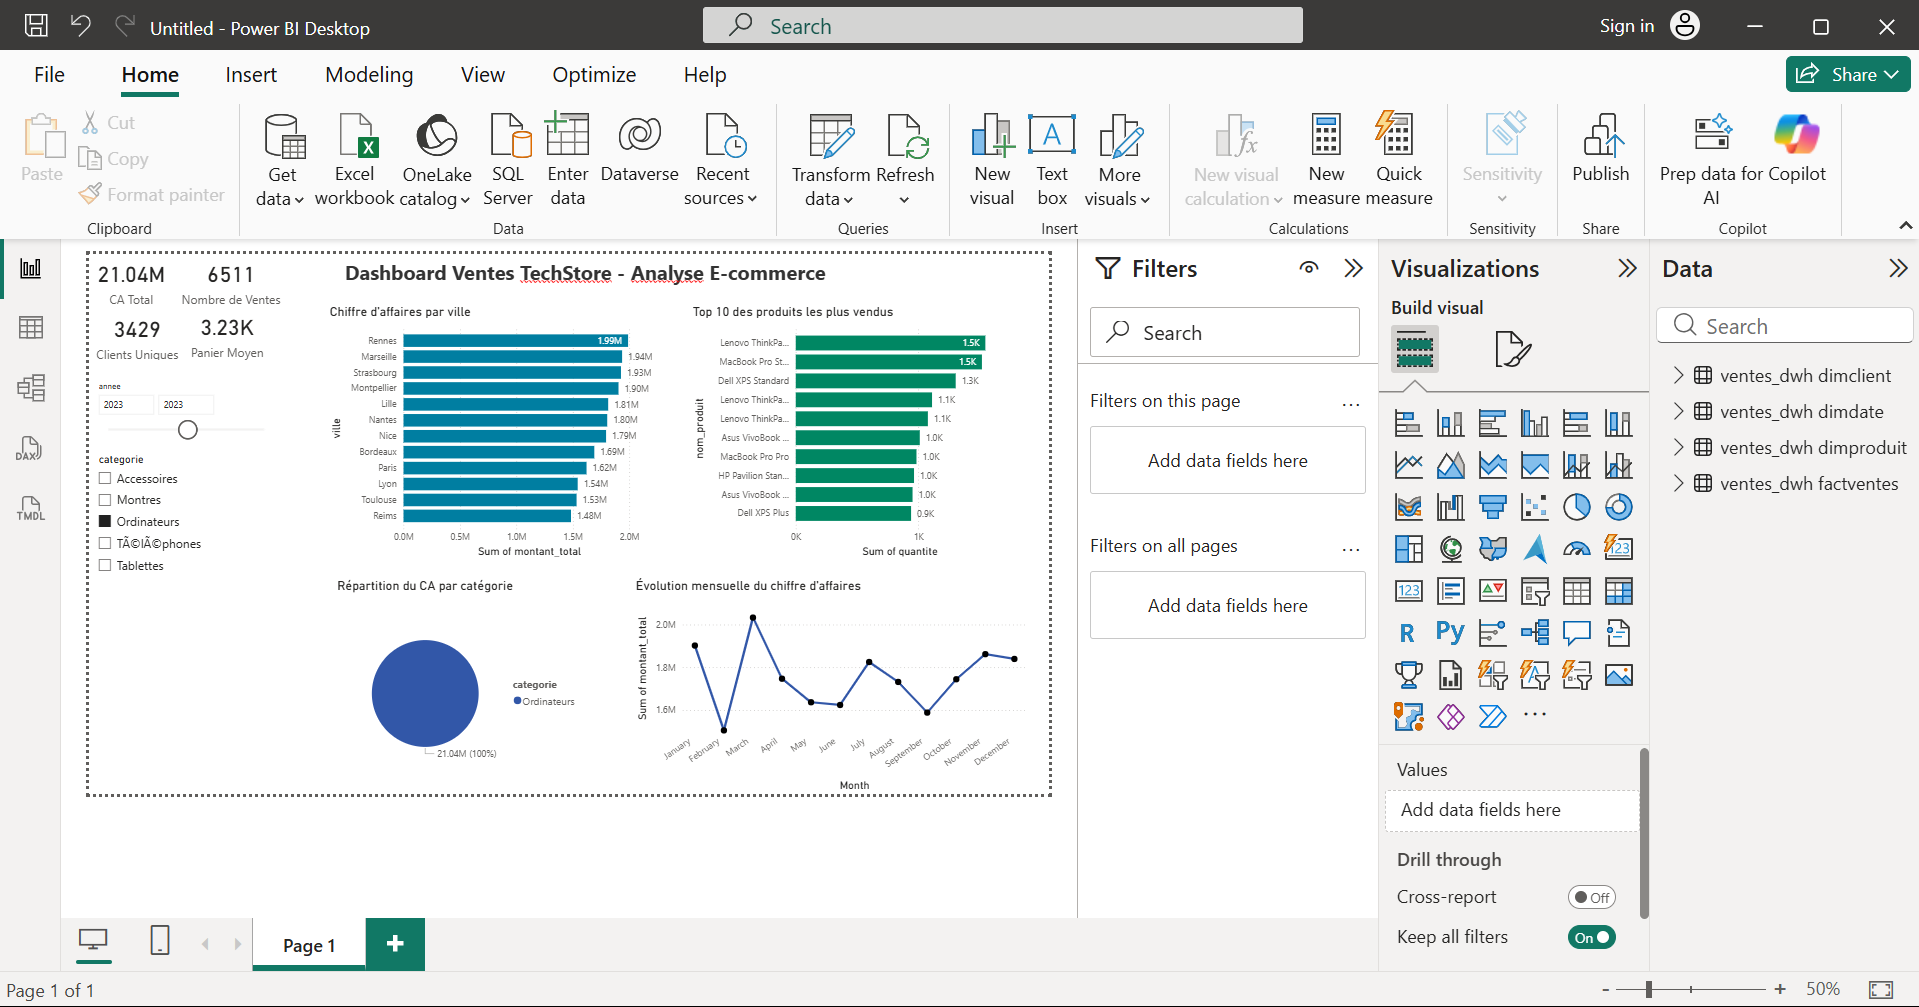

The page's visual inventory and layout, read from the dashboard file:
{"tool":"powerbi","page":{"name":"Page 1","canvas":[1280,720],"ordinal":0},"visuals":[{"type":"barChart","title":"Chiffre d''affaires par ville","fields":{"Category":["ventes_dwh dimclient.ville"],"Y":["Sum(ventes_dwh factventes.montant_total)"]},"box":[316,66,458,342],"z":0},{"type":"pieChart","title":"Répartition du CA par catégorie","fields":{"Category":["ventes_dwh dimproduit.categorie"],"Y":["Sum(ventes_dwh factventes.montant_total)"]},"box":[326,432,336,288],"z":1000},{"type":"lineChart","title":"Évolution mensuelle du chiffre d''affaires","fields":{"Y":["Sum(ventes_dwh factventes.montant_total)"],"Category":["ventes_dwh dimdate.date_complete.Variation.Date Hierarchy.Month"]},"box":[724,432,530,288],"z":2000},{"type":"clusteredBarChart","title":"Top 10 des produits les plus vendus","fields":{"Category":["ventes_dwh dimproduit.nom_produit"],"Y":["Sum(ventes_dwh factventes.quantite)"]},"box":[800,66,432,342],"z":3000},{"type":"slicer","fields":{"Values":["ventes_dwh dimdate.annee"]},"box":[0,164,256,96],"z":4000},{"type":"slicer","fields":{"Values":["ventes_dwh dimproduit.categorie"]},"box":[0,260,210,172],"z":5000},{"type":"card","fields":{"Values":["ventes_dwh factventes.CA Total"]},"box":[0,0,112,72],"z":6000},{"type":"card","fields":{"Values":["ventes_dwh factventes.Panier Moyen"]},"box":[128,66,112,80],"z":7000},{"type":"card","fields":{"Values":["ventes_dwh factventes.Nombre de Ventes"]},"box":[112,0,154,72],"z":8000},{"type":"card","fields":{"Values":["ventes_dwh factventes.Clients Uniques"]},"box":[0,72,128,74],"z":9000},{"type":"textbox","box":[336,0,652,48],"z":10000}]}

Visuals, with their boxes on the page's 1280x720 design canvas (x1, y1, x2, y2). These are canvas units, not pixel positions in the 1919x1007 screenshot, which may show the page scaled, cropped or inside an application window:
"Chiffre d''affaires par ville" barChart: box(316, 66, 774, 408)
"Répartition du CA par catégorie" pieChart: box(326, 432, 662, 720)
"Évolution mensuelle du chiffre d''affaires" lineChart: box(724, 432, 1254, 720)
"Top 10 des produits les plus vendus" clusteredBarChart: box(800, 66, 1232, 408)
slicer - ventes_dwh dimdate.annee: box(0, 164, 256, 260)
slicer - ventes_dwh dimproduit.categorie: box(0, 260, 210, 432)
card - ventes_dwh factventes.CA Total: box(0, 0, 112, 72)
card - ventes_dwh factventes.Panier Moyen: box(128, 66, 240, 146)
card - ventes_dwh factventes.Nombre de Ventes: box(112, 0, 266, 72)
card - ventes_dwh factventes.Clients Uniques: box(0, 72, 128, 146)
textbox: box(336, 0, 988, 48)
